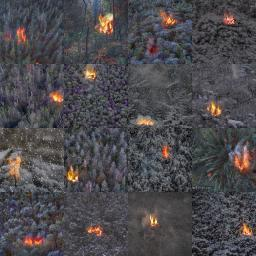Small fire: (220, 130, 255, 177), (1, 141, 30, 192), (89, 3, 122, 46), (5, 15, 37, 57), (152, 5, 183, 35), (125, 111, 165, 133), (83, 214, 110, 245), (213, 7, 243, 33), (201, 95, 230, 121), (63, 158, 86, 190), (137, 208, 167, 232), (79, 60, 108, 84), (235, 211, 256, 244), (22, 229, 51, 251), (157, 140, 177, 166), (44, 87, 68, 106)
